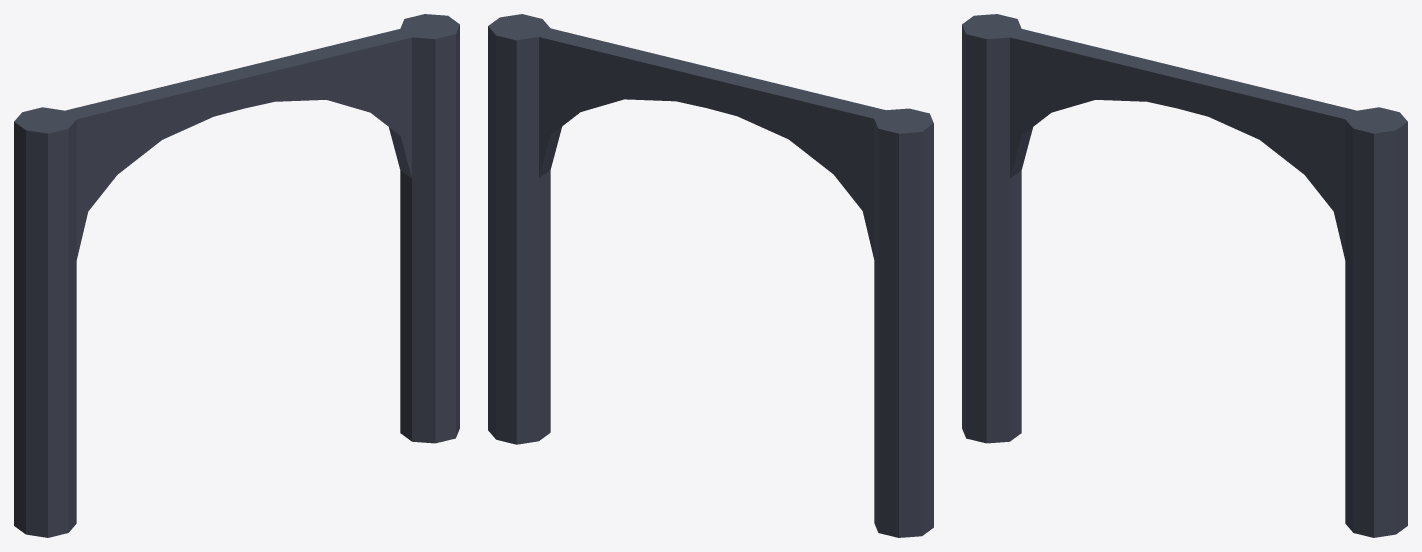
Rendered from stage8_hasira.fbx.
3 views of the same model, side by side, from view 1: azimuth 30°, elevation 25°; view 2: azimuth 150°, elevation 25°; view 3: azimuth 330°, elevation 25° (orthographic).
Visible parts, largest first — view 1: ex_hasira; view 2: ex_hasira; view 3: ex_hasira.
Part boxes in pixels (box(x1,y1,x2,y2)): ex_hasira: box(14, 14, 459, 537); ex_hasira: box(488, 14, 933, 537); ex_hasira: box(962, 14, 1407, 537).
Bounding box in the file's own units: 2256 × 2008 × 256.
